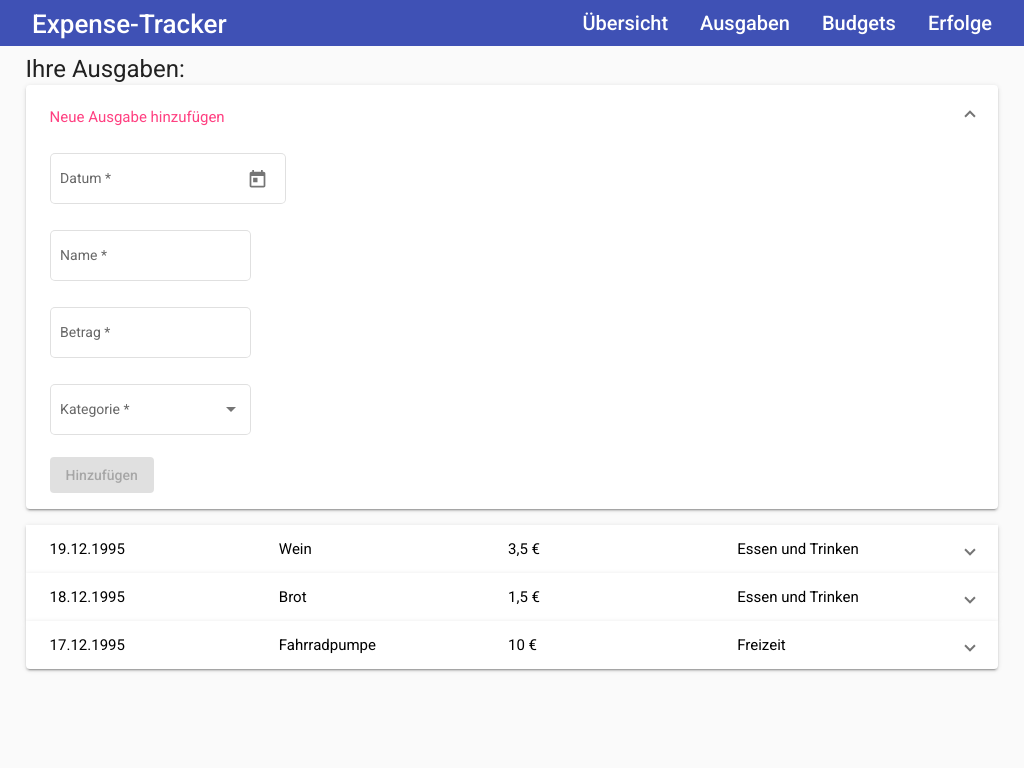
Test: Ausgaben E2E Test › should not update an existing expense with missing fields
Click the button "19.12.1995 Wein 3,5 € Essen und Trinken".
click(513, 549)  # box [50, 539, 975, 559]
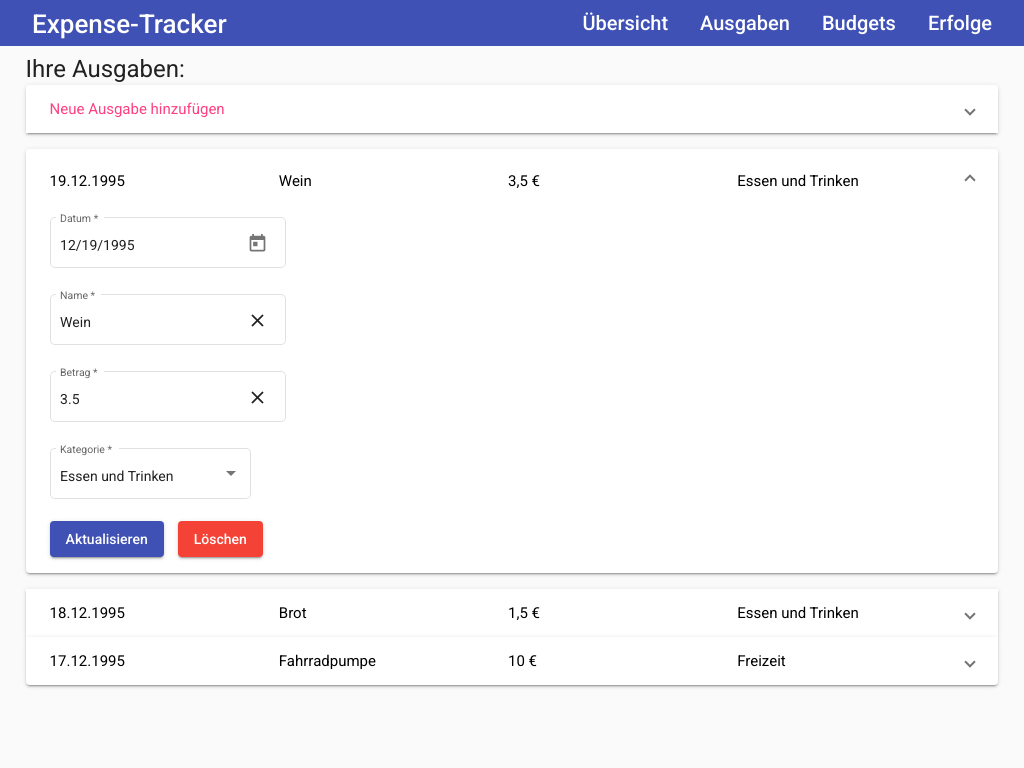
Clear the field labelled "Name *" at (150, 323), box [60, 315, 240, 331]
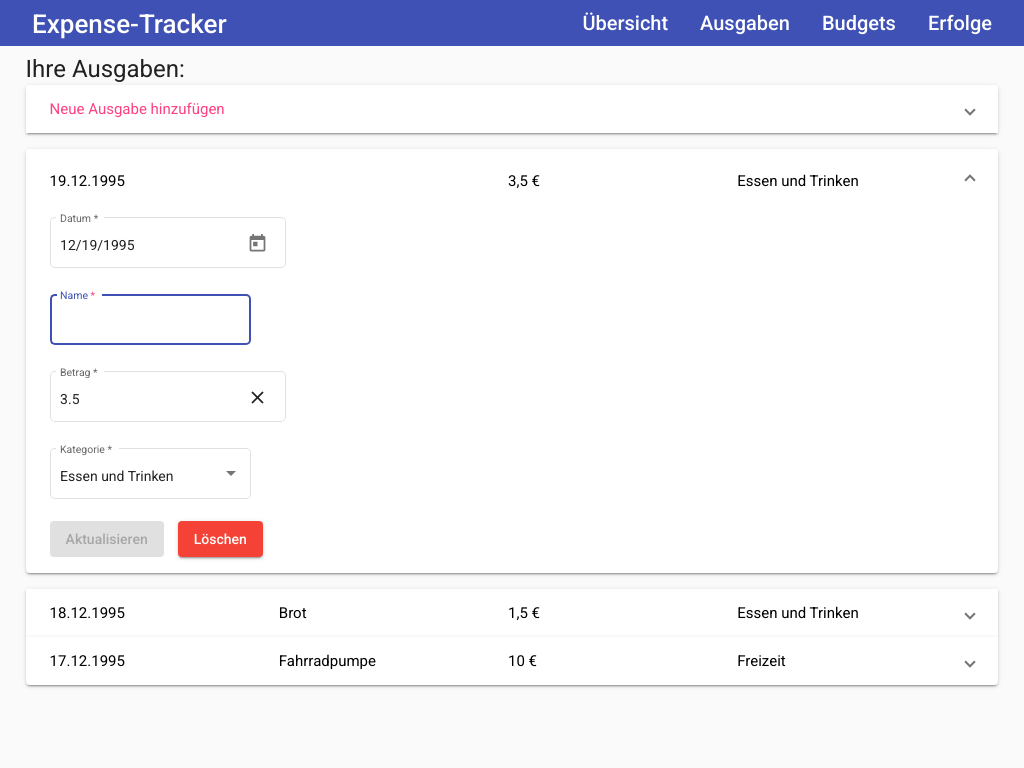
expect the submit button is disabled: met, box [50, 521, 164, 557]
